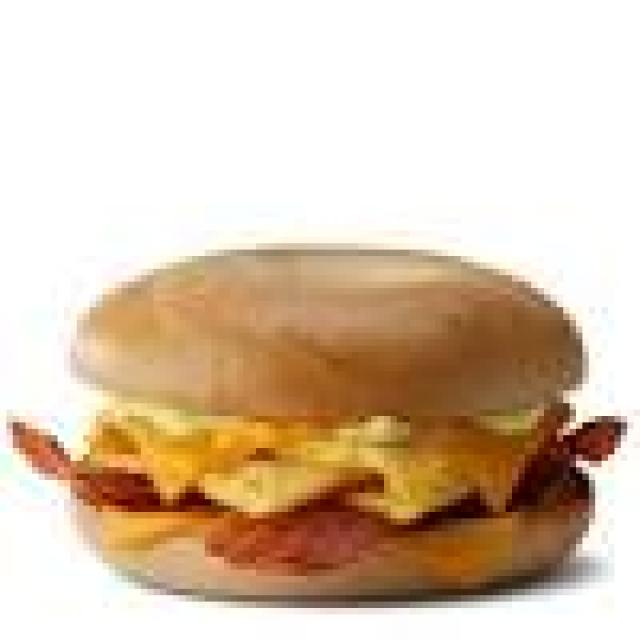Bagel: (79, 250, 582, 418)
